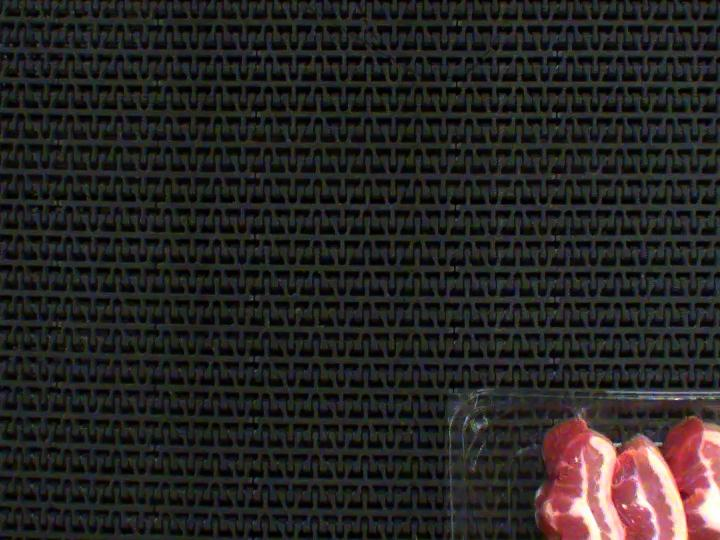packaging-error: (566, 400, 594, 423)
